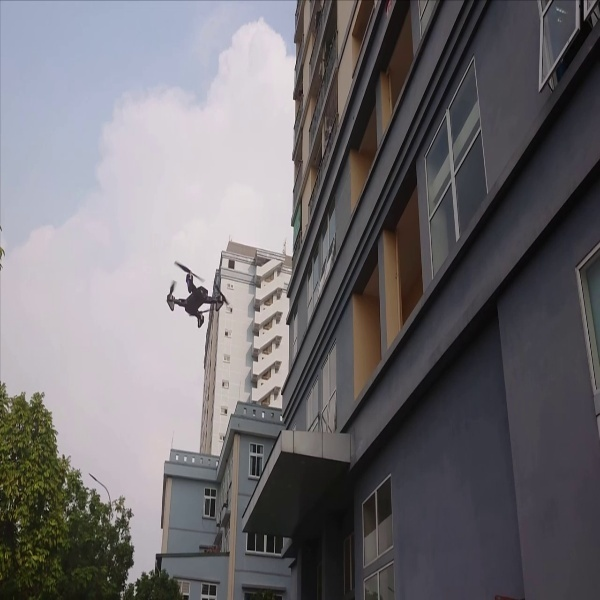drone: (153, 255, 231, 331)
